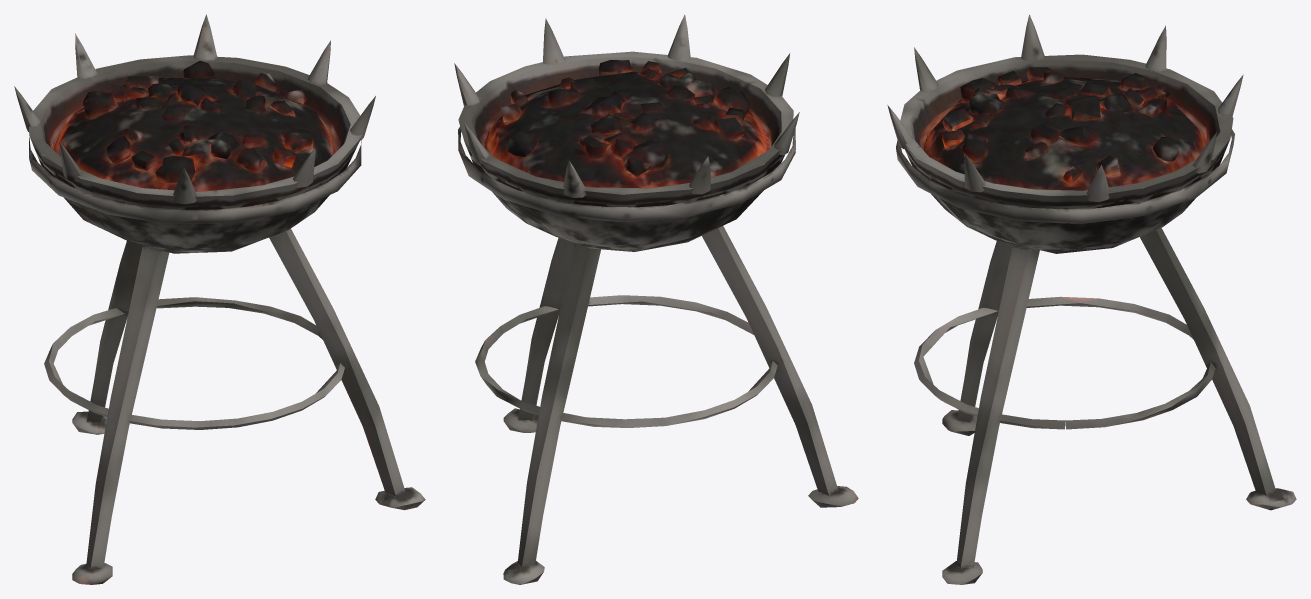
File: brazier.glb
The picture shows the model from 3 angles, left to right: view 1: azimuth 30°, elevation 25°; view 2: azimuth 150°, elevation 25°; view 3: azimuth 270°, elevation 25°; orthographic projection.
Visible parts, largest first — view 1: brazier; view 2: brazier; view 3: brazier.
Boxes of the visible parts, bbox=[...] form: brazier: bbox=[14, 14, 425, 584]; brazier: bbox=[454, 14, 858, 584]; brazier: bbox=[887, 14, 1296, 584].
Bounding box in the file's own units: 0.9226 × 1.05 × 0.9347.
1 material, 1 textured.
